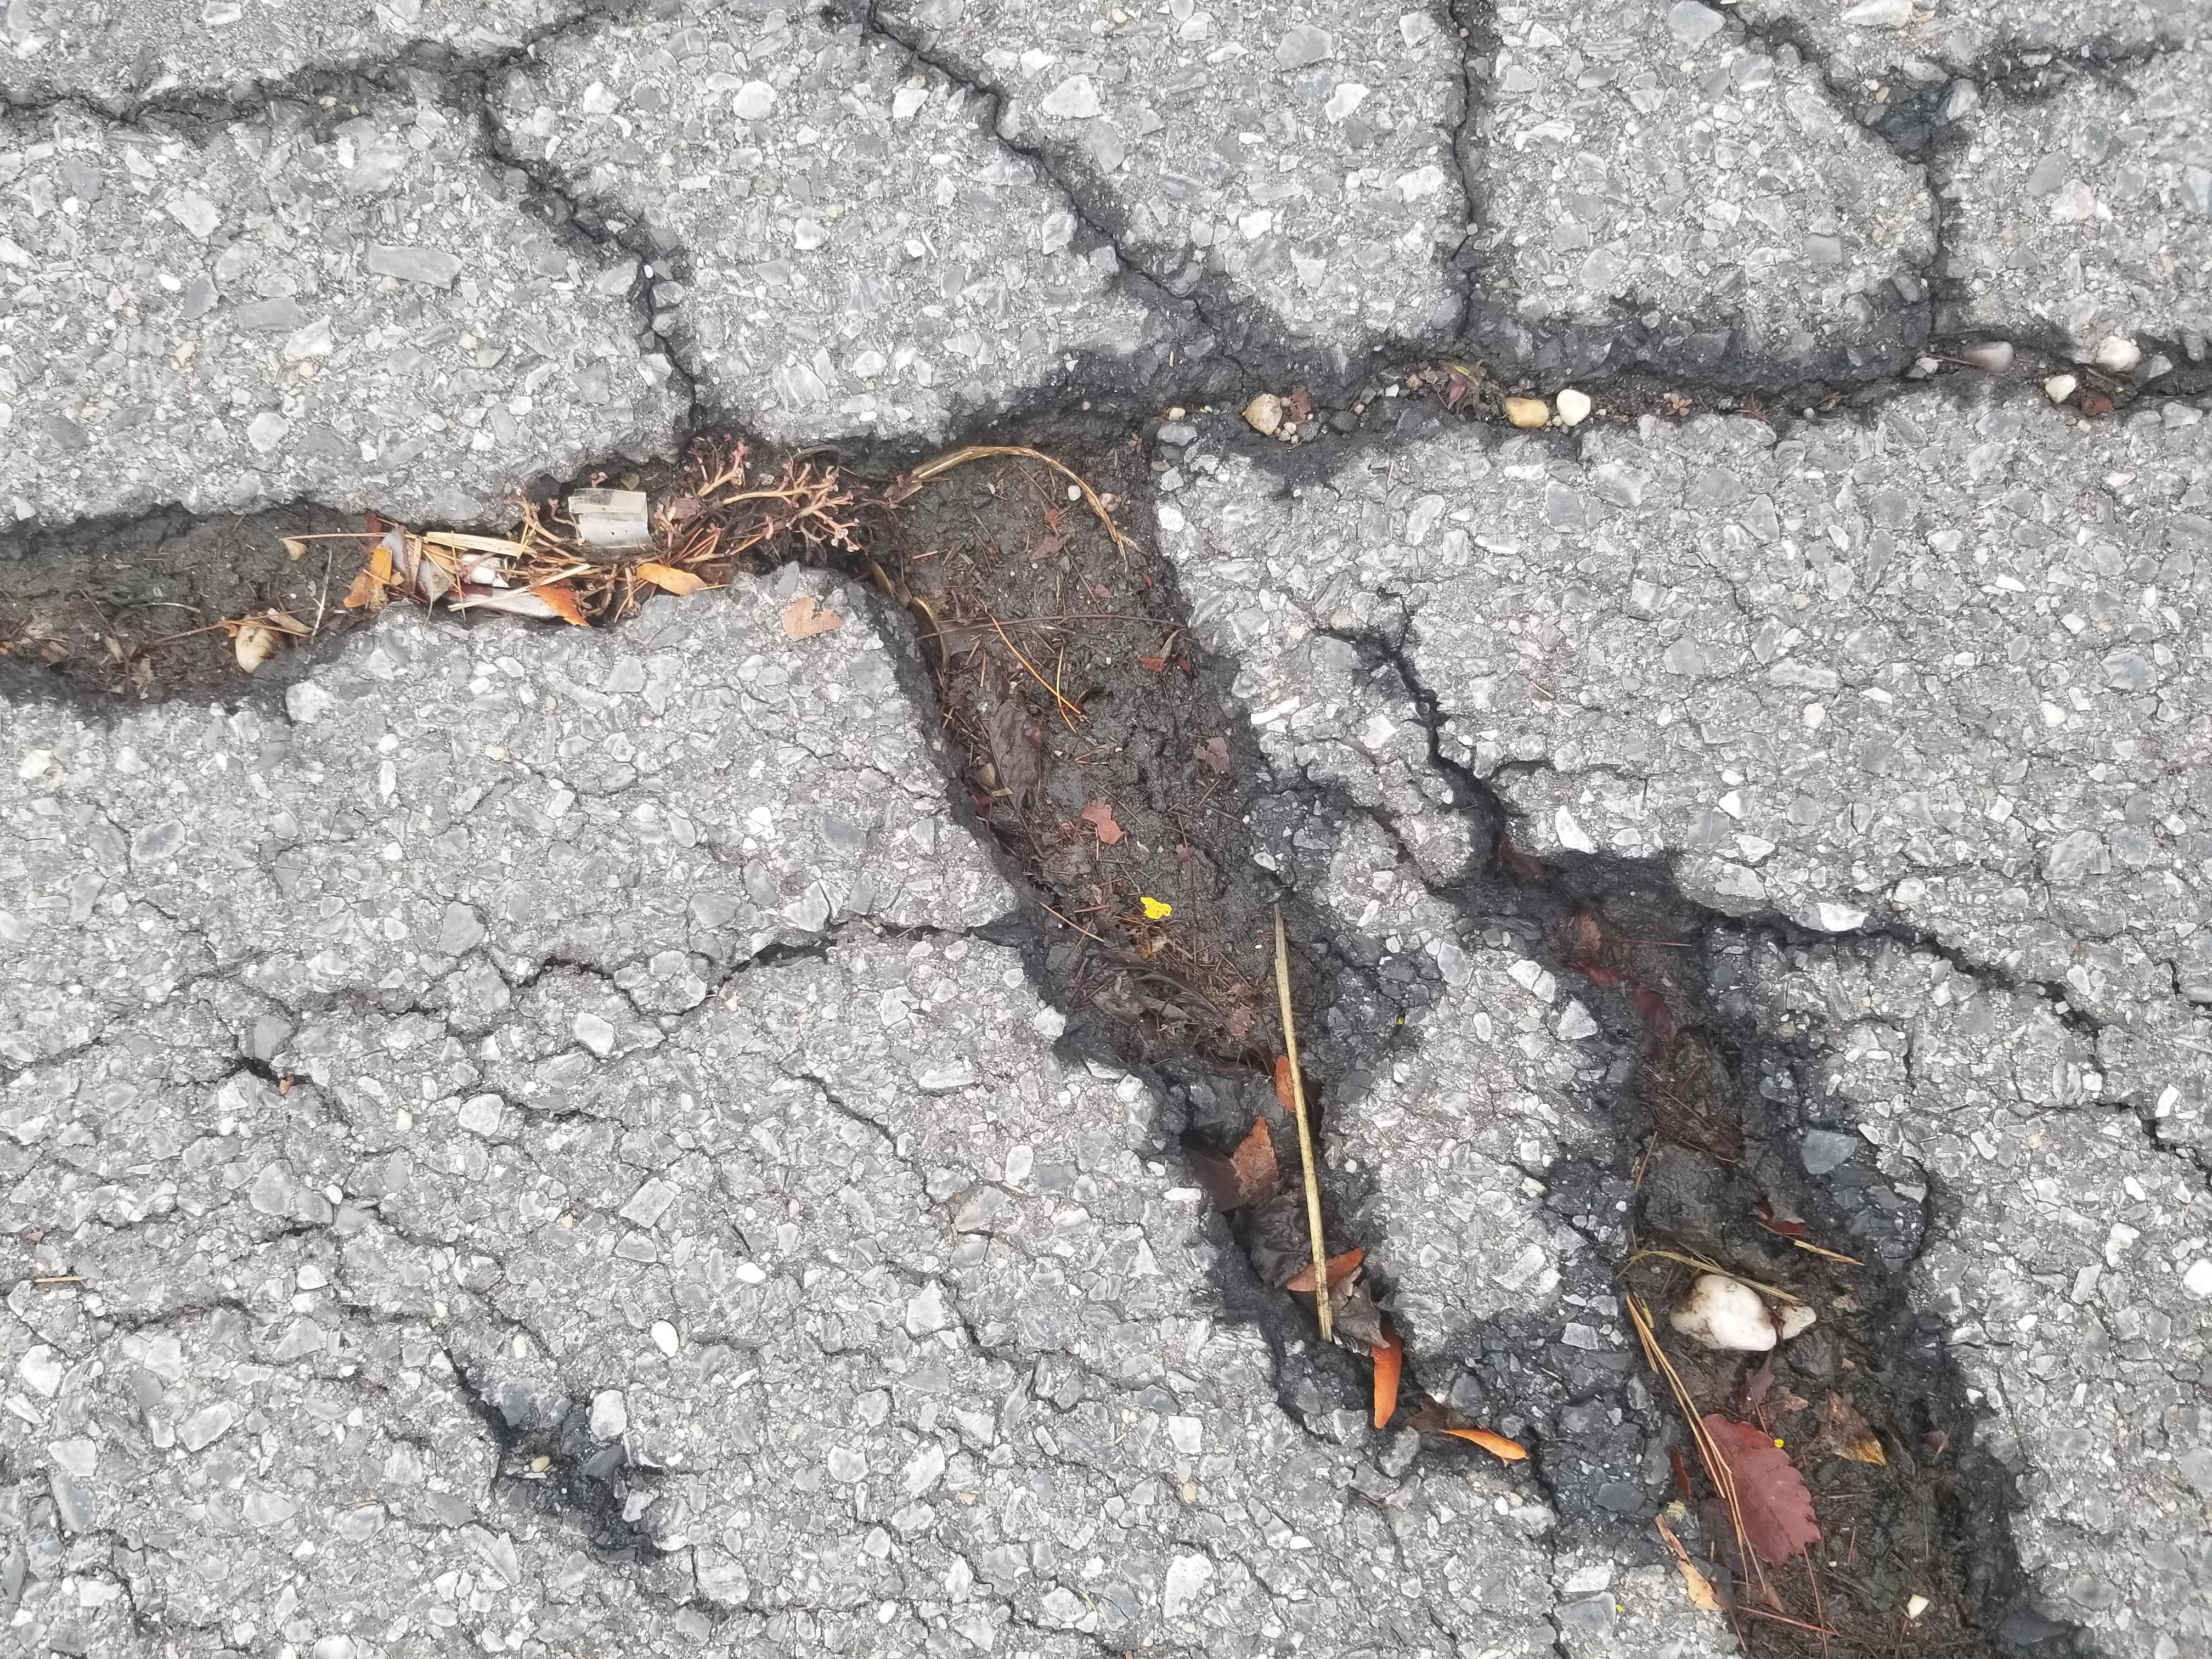alligator-crack: (1580, 390, 2212, 1659)
crack: (561, 166, 1111, 1659)
pothole: (279, 633, 1735, 1080), (0, 1096, 1167, 1527), (1217, 0, 1592, 317)
